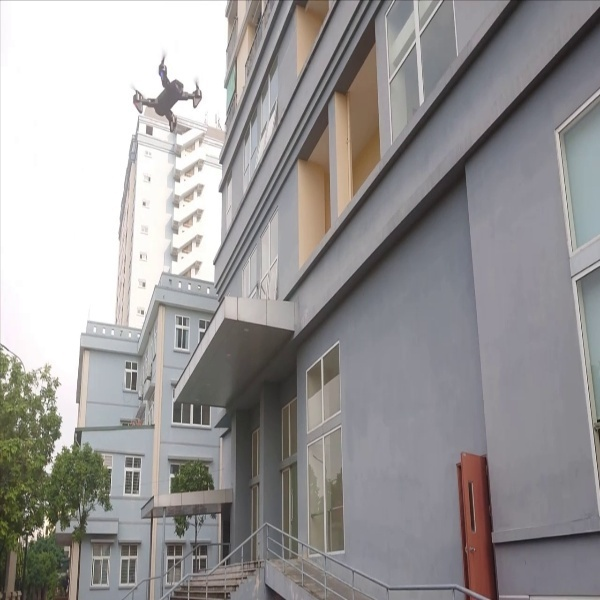drone: (123, 45, 211, 131)
